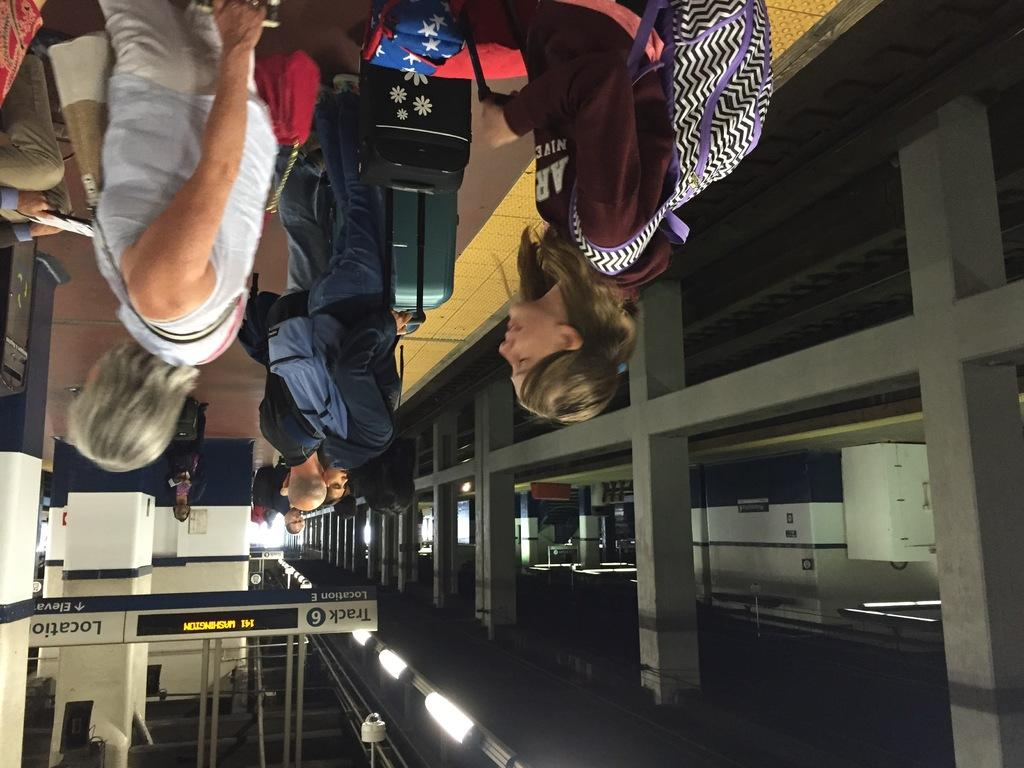Sem Máscara: (496, 299, 566, 395), (327, 466, 346, 495), (286, 510, 304, 531), (174, 502, 187, 519)
